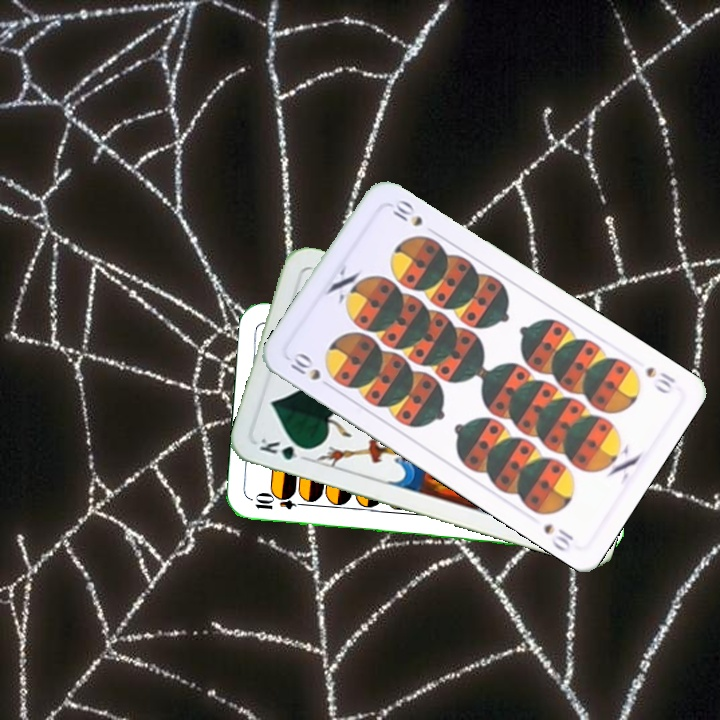E10: (251, 491, 309, 512)
GK: (255, 434, 313, 464)
S10: (284, 348, 336, 392), (641, 362, 678, 397)
